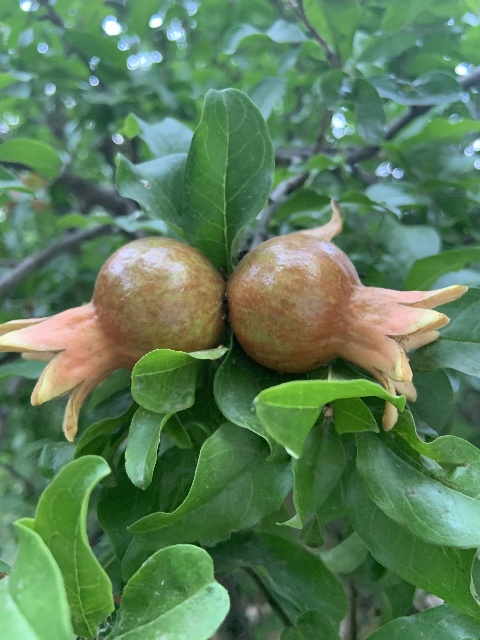early-fruit: (1, 236, 226, 443), (230, 233, 462, 420)
